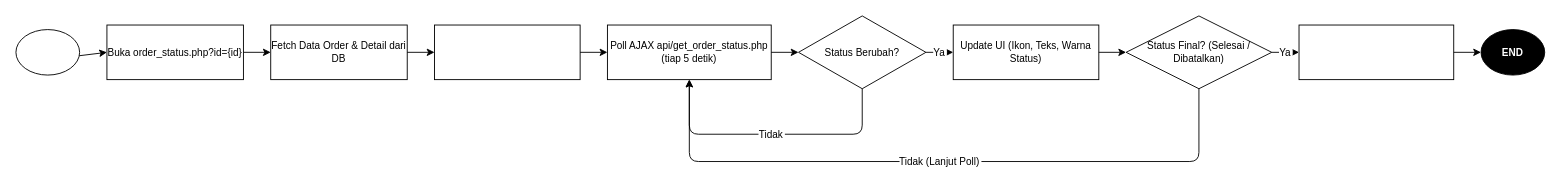
This 1561x185 diagram has some shape labels left out. Each missing label, with the centre of its shape:
"Hentikan Polling & Bersihkan localStorage" goes at point (1376, 52).
"Render Halaman Status Awal (Pending)" goes at point (507, 52).
"START" goes at point (47, 52).
